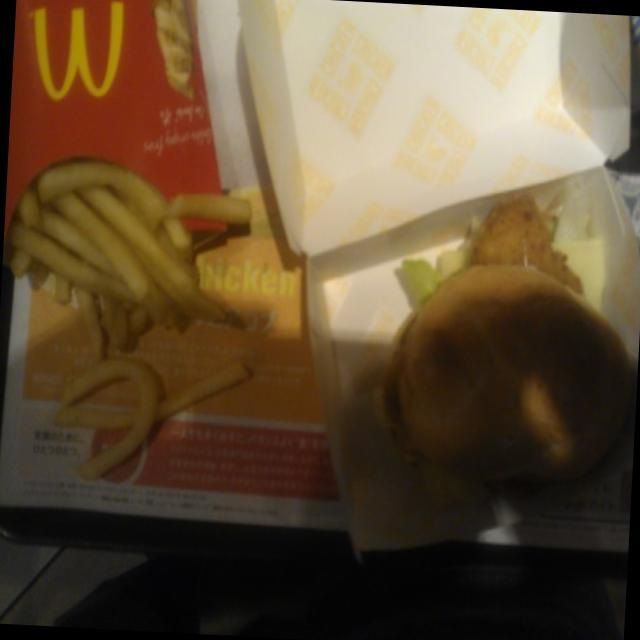French Fries: (2, 152, 232, 452)
